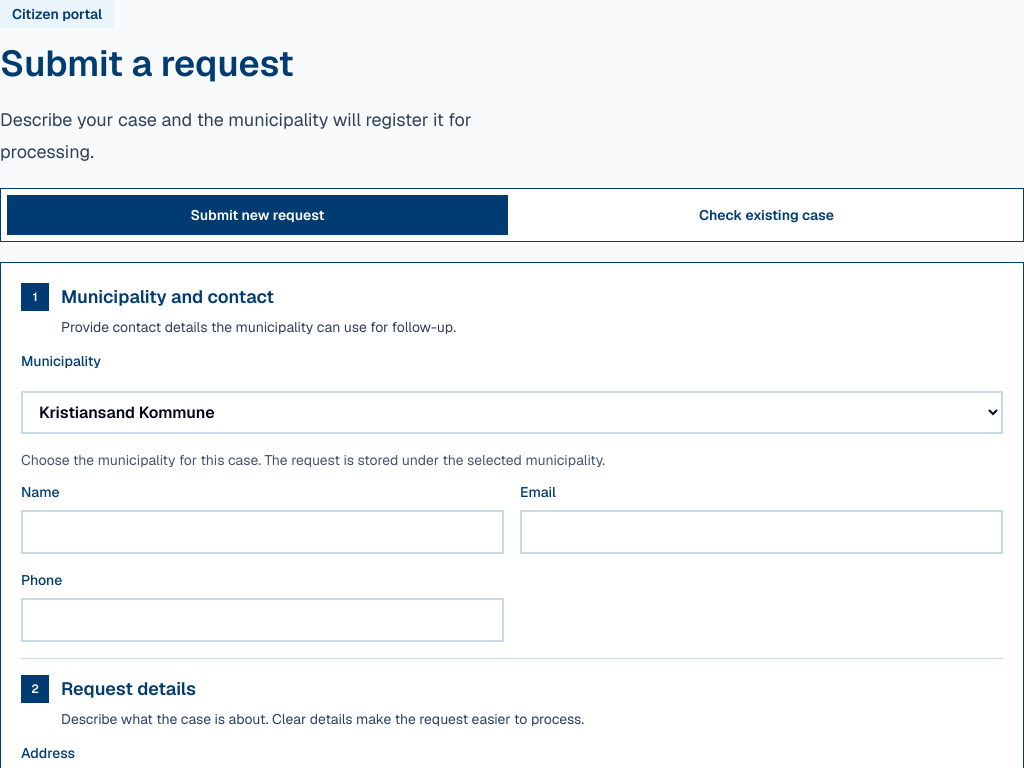
Test: IntakeForm › shows status lookup result and does not leak data on failed lookups
Click the tab "Check existing case" at (766, 215), box x1=516 y1=195 x2=1017 y2=235
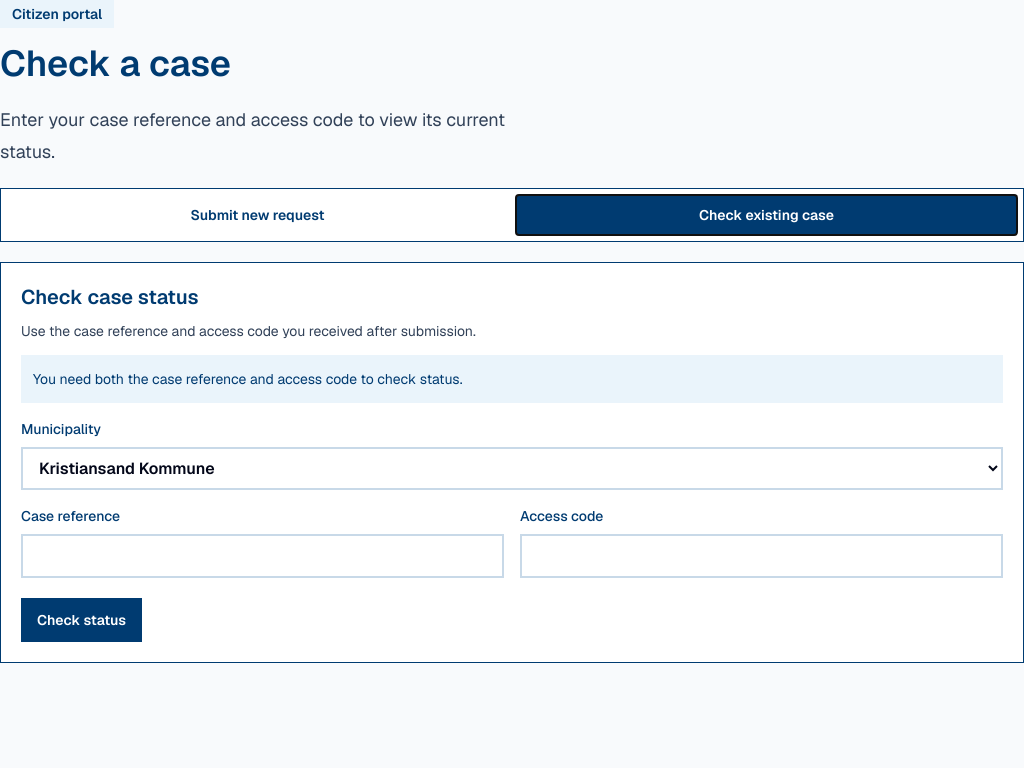
Type "KF-2026-0001" into the field labelled "Case reference" at (262, 556), box x1=21 y1=534 x2=504 y2=578
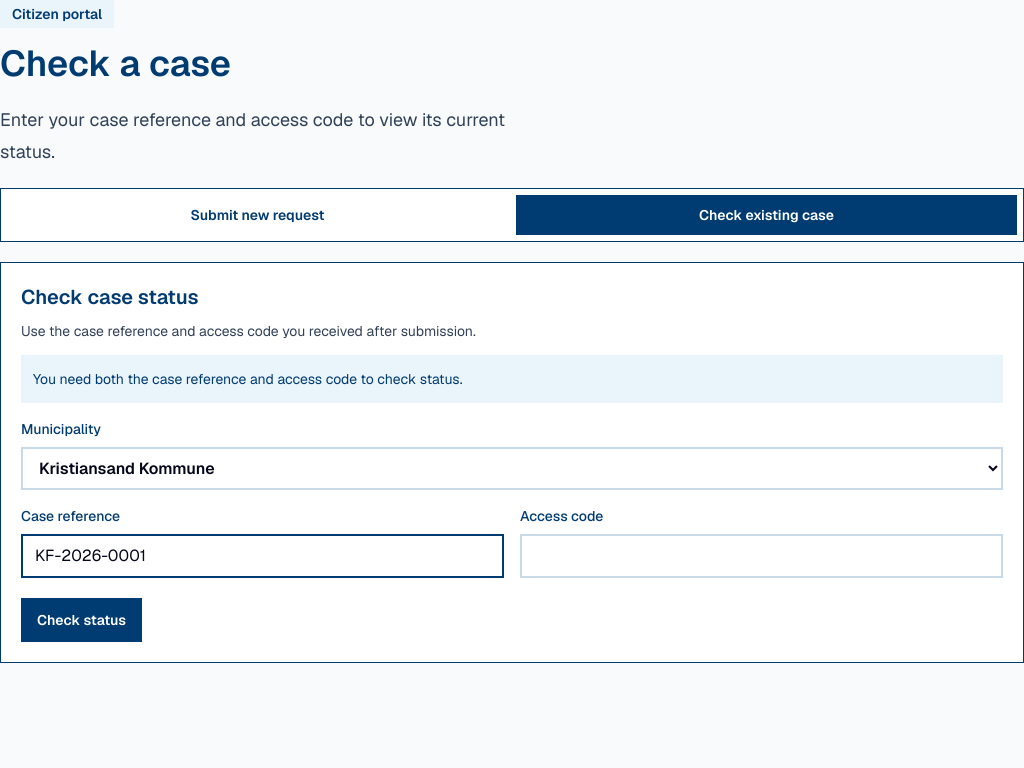
Type "ABC123" into the field labelled "Access code" at (762, 556), box x1=520 y1=534 x2=1003 y2=578
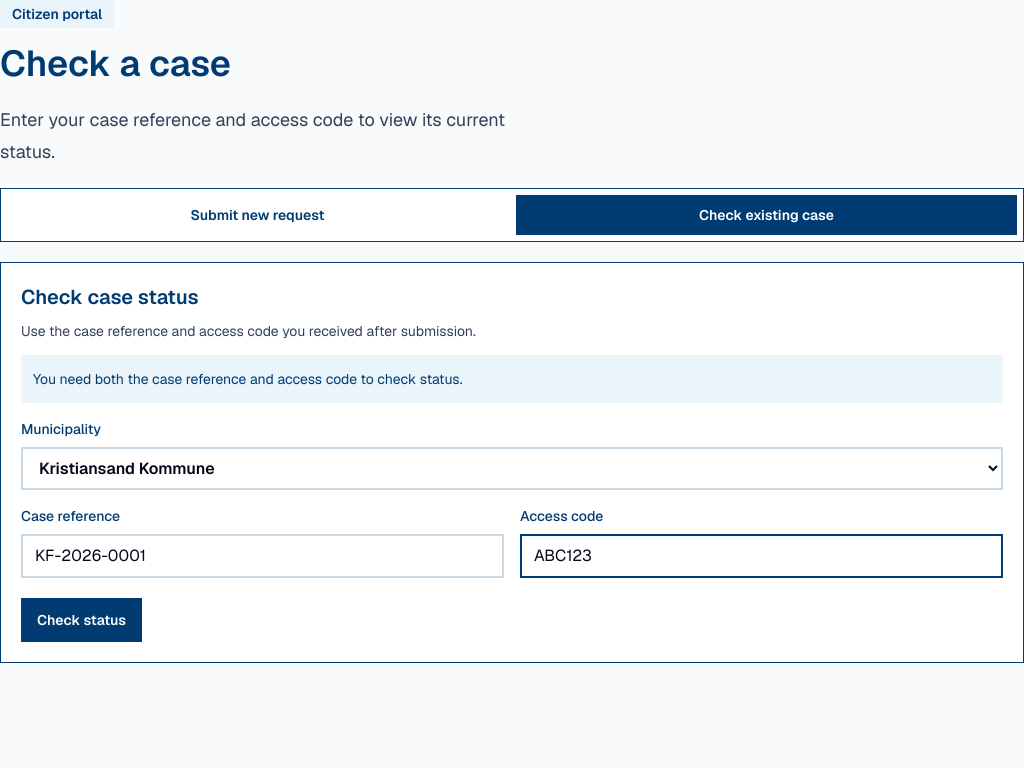
Click the button "Check status" at (82, 620), box x1=21 y1=598 x2=142 y2=642
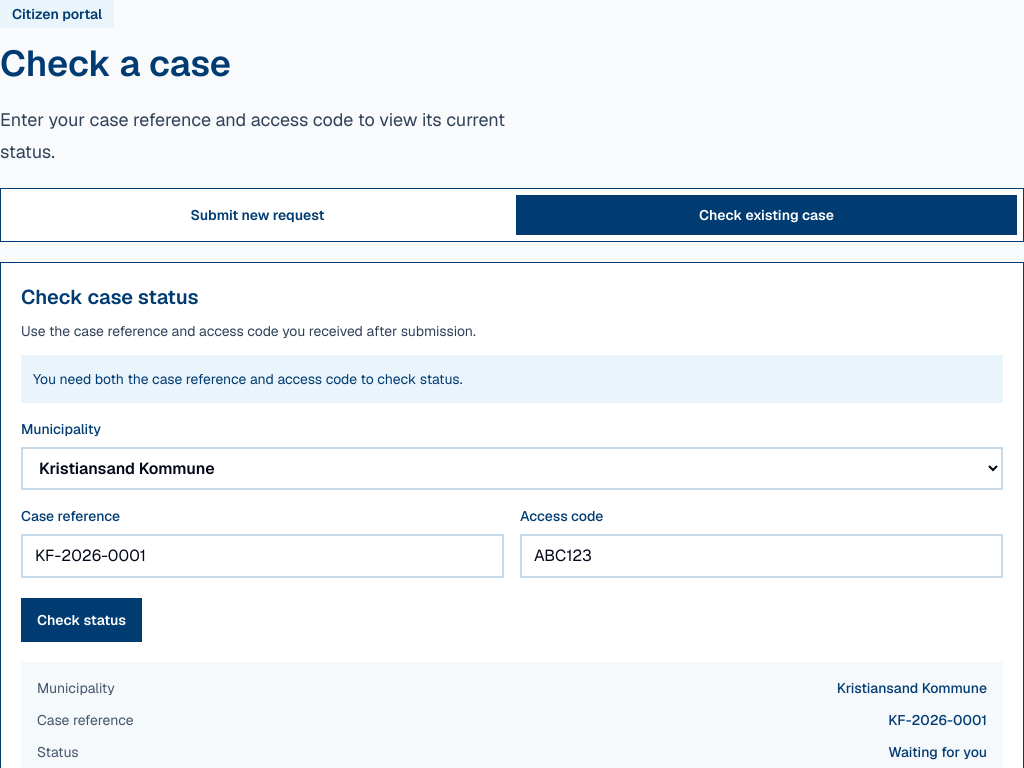
Now the text "Waiting for you" is shown, box x1=888 y1=742 x2=987 y2=762
Replace the text in the field labelled "Case reference" with "KF-2026-BAD" at (262, 556), box x1=21 y1=534 x2=504 y2=578
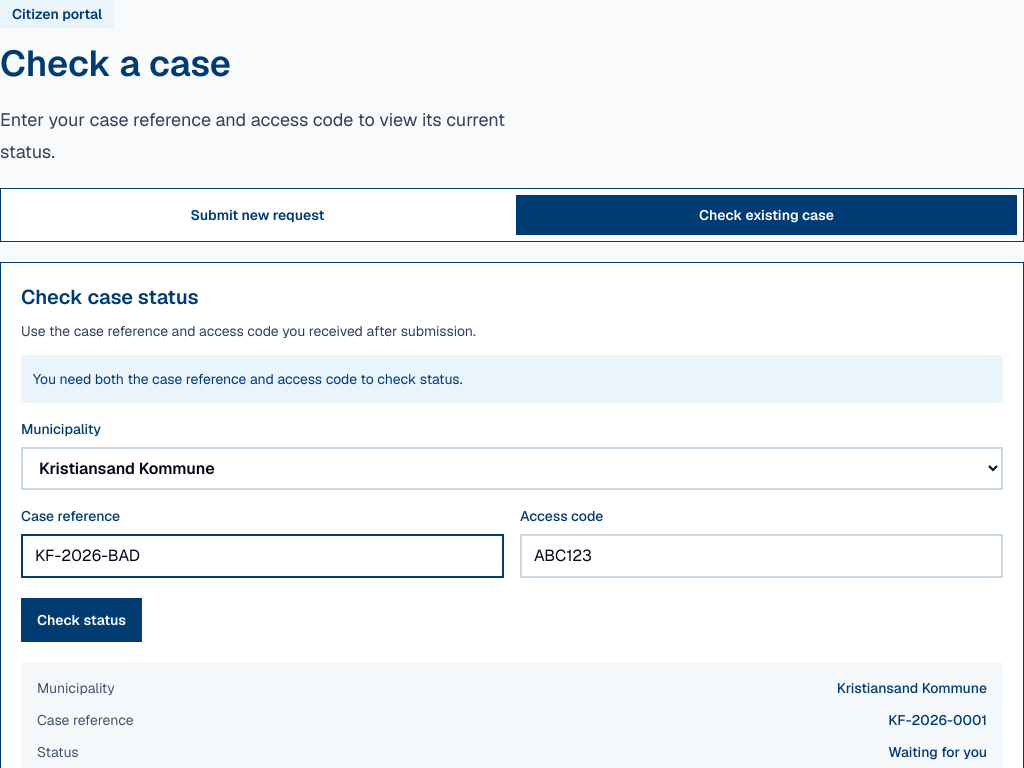
Click the button "Check status" at (82, 620), box x1=21 y1=598 x2=142 y2=642
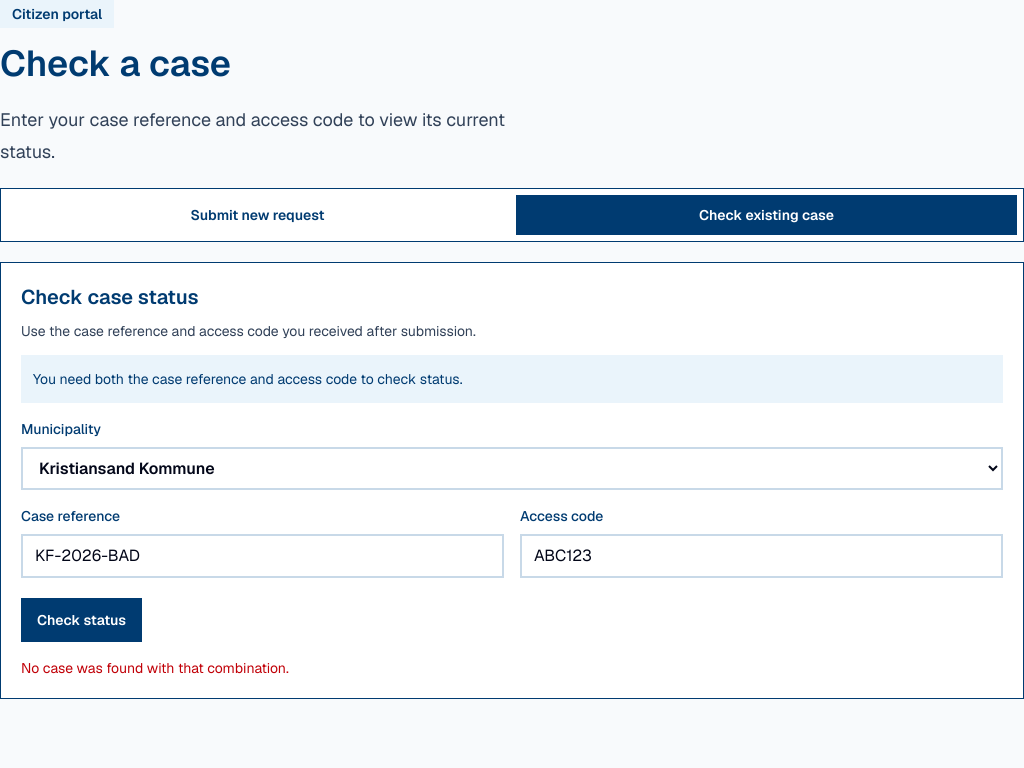
Now the text "No case was found with that combination." is shown, box x1=21 y1=659 x2=289 y2=677
